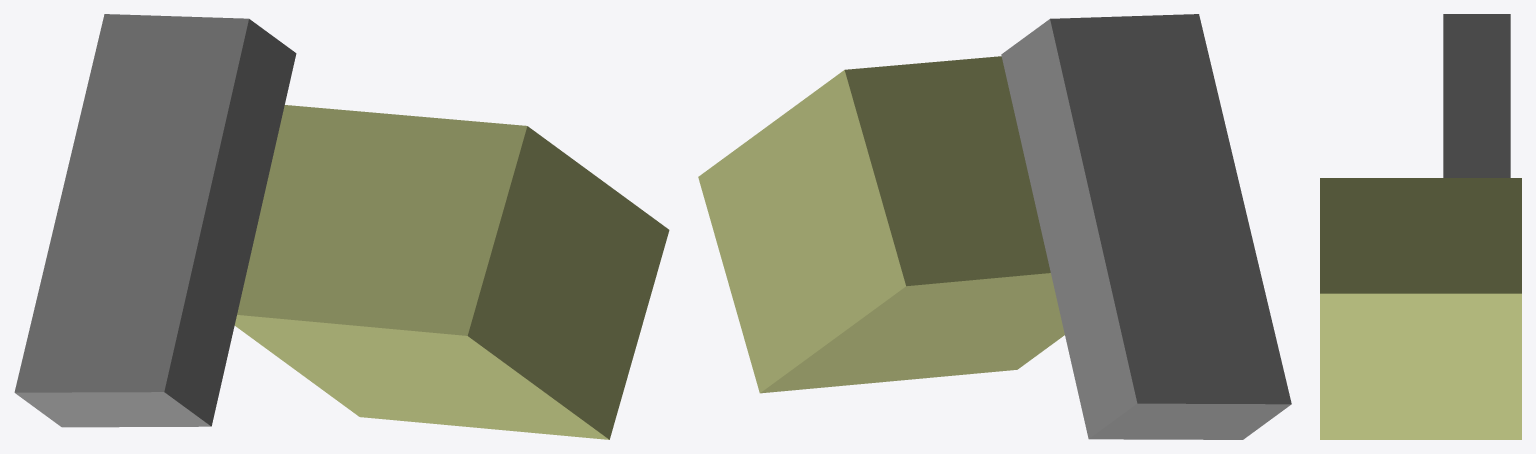
3 renders of one model, left to right at view 1: azimuth 30°, elevation 25°; view 2: azimuth 150°, elevation 25°; view 3: azimuth 270°, elevation 25°, orthographic. The views are drawn at different scales.
Visible parts, largest first — view 1: 0_1_0_1_3_3_3_2_3_0; view 2: 0_1_0_1_3_3_3_2_3_0; view 3: 0_1_0_1_3_3_3_2_3_0.
Part boxes in pixels (box(x1,y1,x2,y2)): 0_1_0_1_3_3_3_2_3_0: box(14, 14, 669, 439); 0_1_0_1_3_3_3_2_3_0: box(698, 14, 1291, 439); 0_1_0_1_3_3_3_2_3_0: box(1320, 14, 1521, 439).
Size of the model in its own units: 19.05 by 14.62 by 9.
